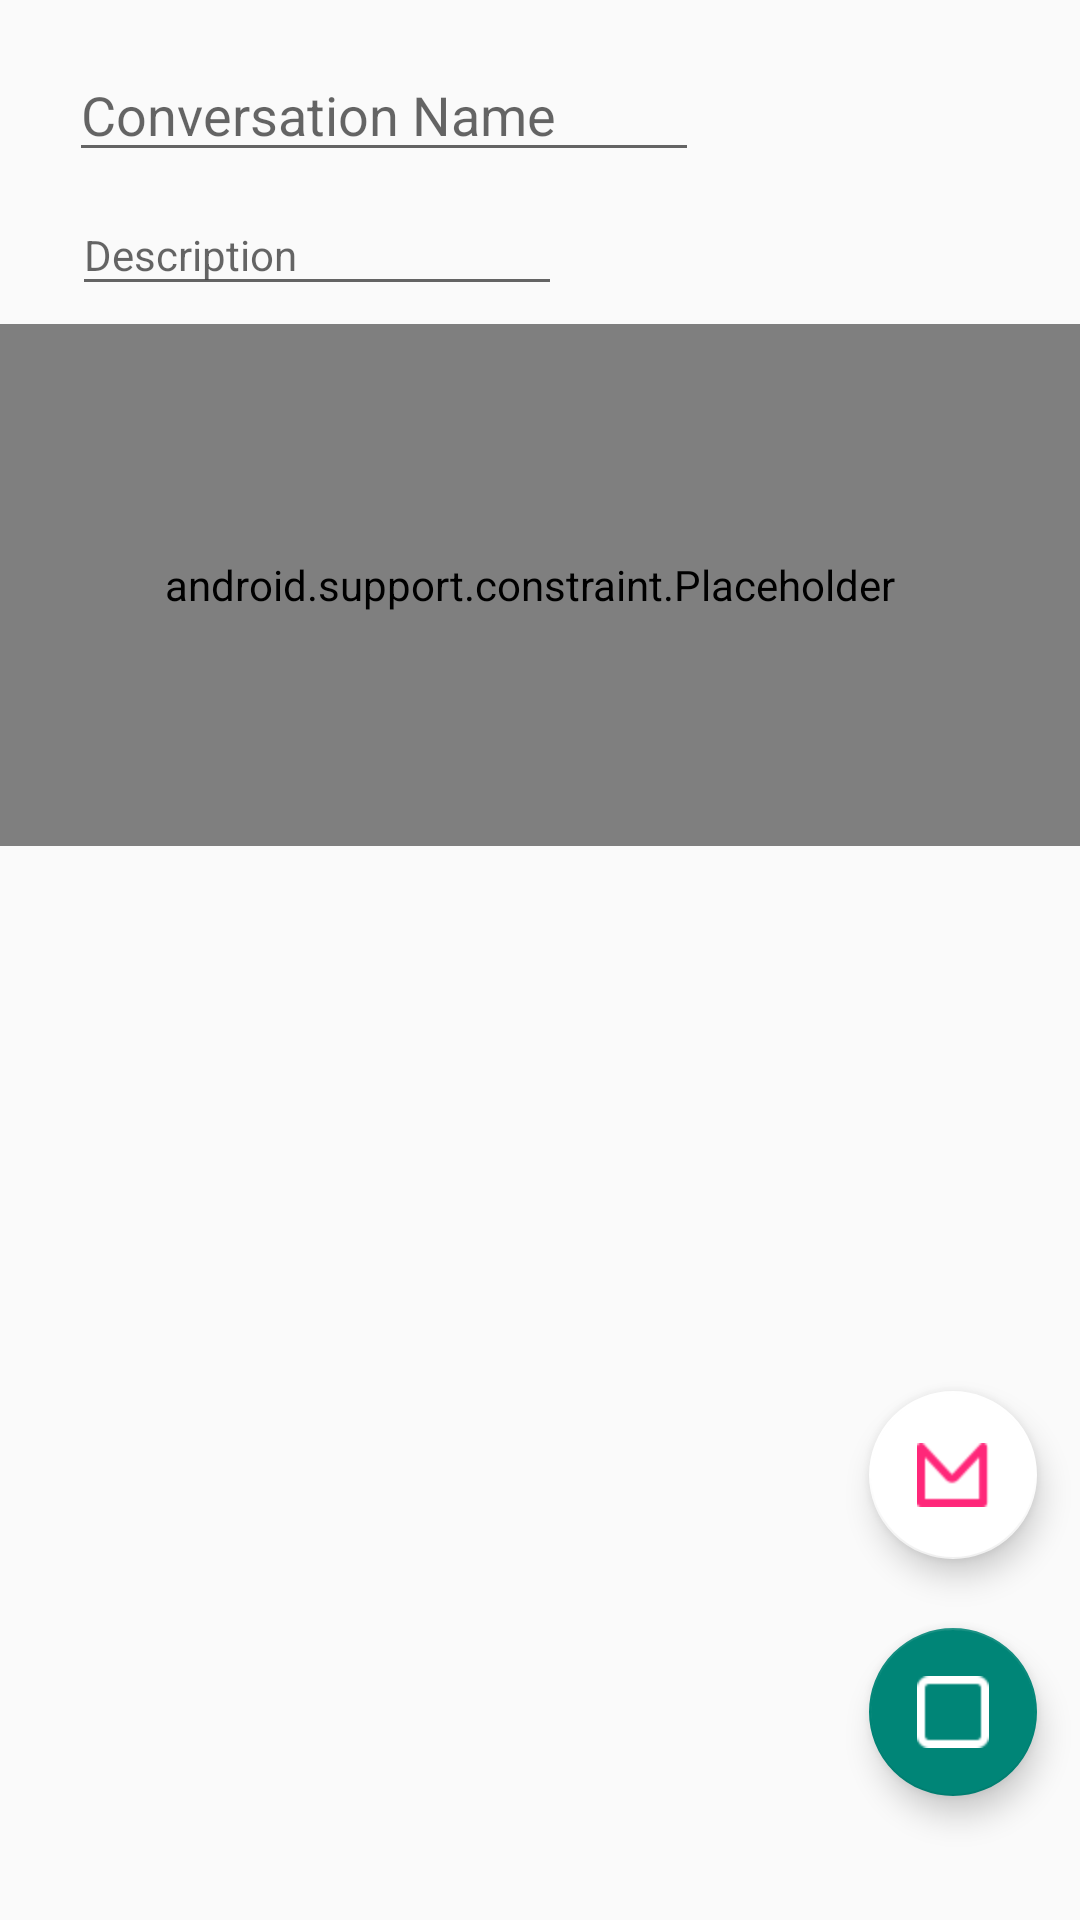

Screen size 1080 × 1920. Icon name, then its box in pixels as (x1, y1, x2, y2):
mark pinkicon: (875, 1443, 1037, 1512)
stop: (869, 1628, 1037, 1796)
